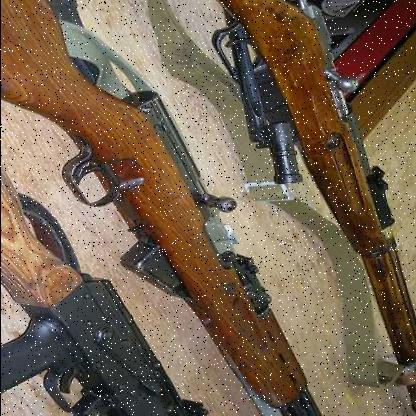rifle: (182, 4, 416, 368), (59, 105, 343, 403)
